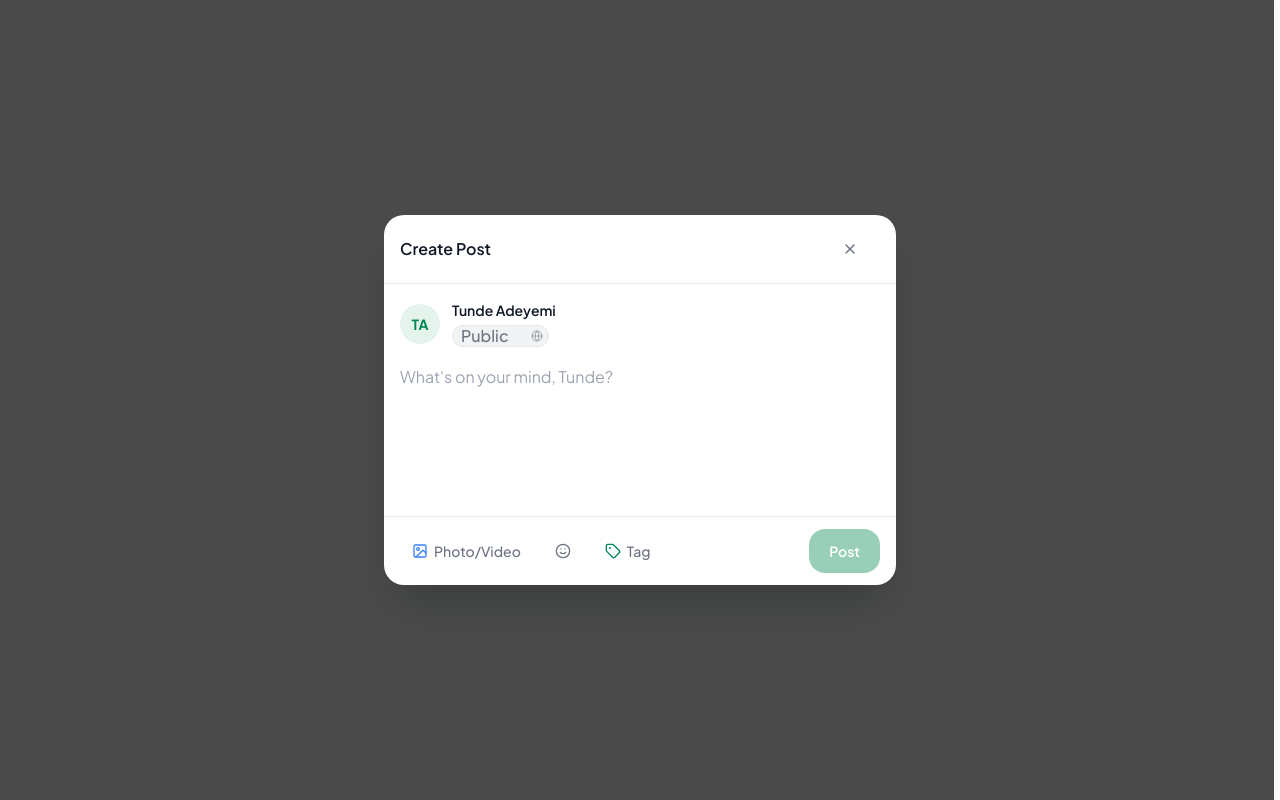
Test: CreatePostModal — integration › enables Post button when text is entered
In the text box with placeholder "What's on your mind, Tunde?": (640, 429) x1=400 y1=364 x2=880 y2=494, type "Hello corpers!"
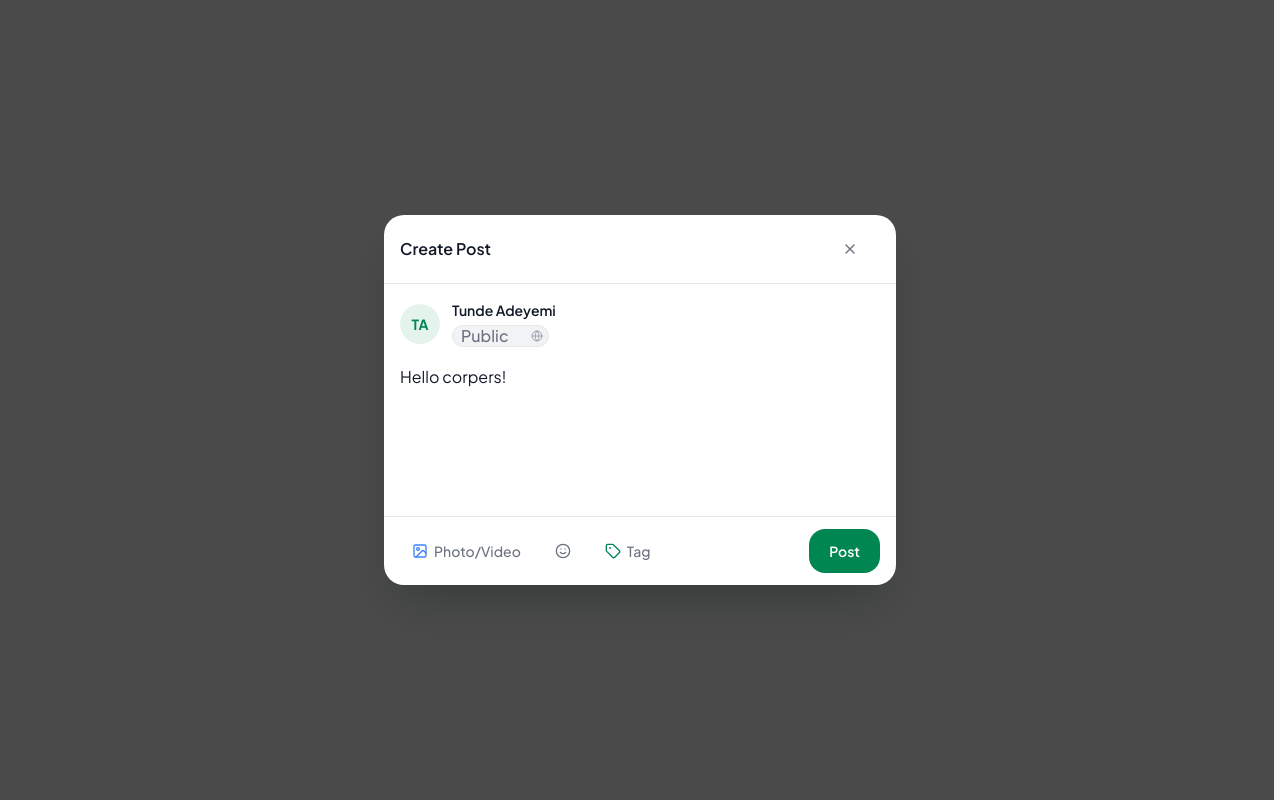
Now the button "Post" is enabled, box x1=809 y1=529 x2=880 y2=573
